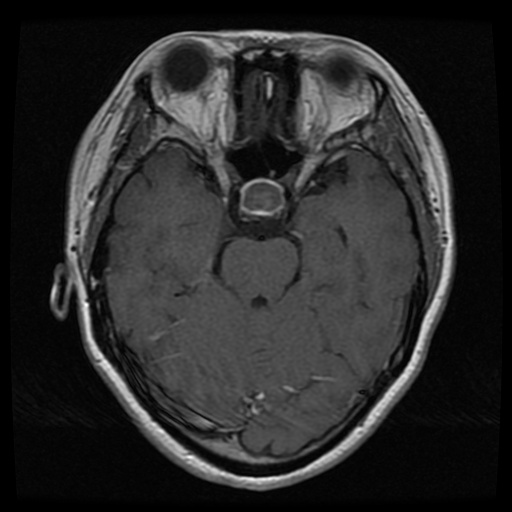pituitary: (240, 179, 285, 215)
